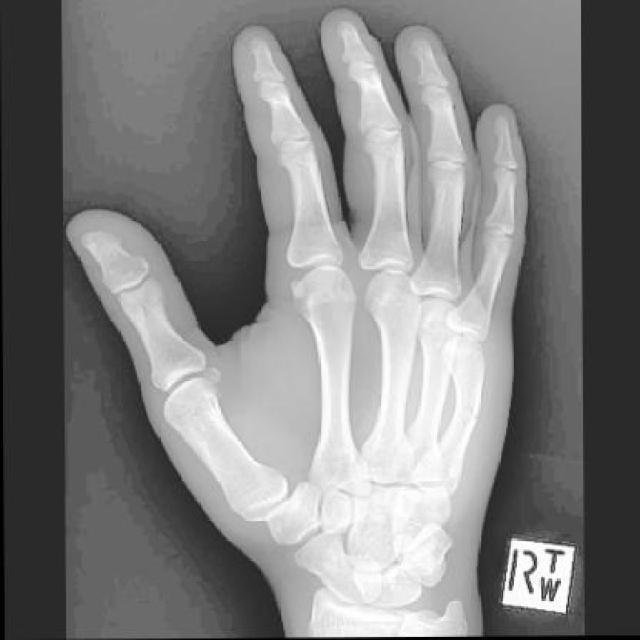Fracture: (450, 388, 484, 433)
